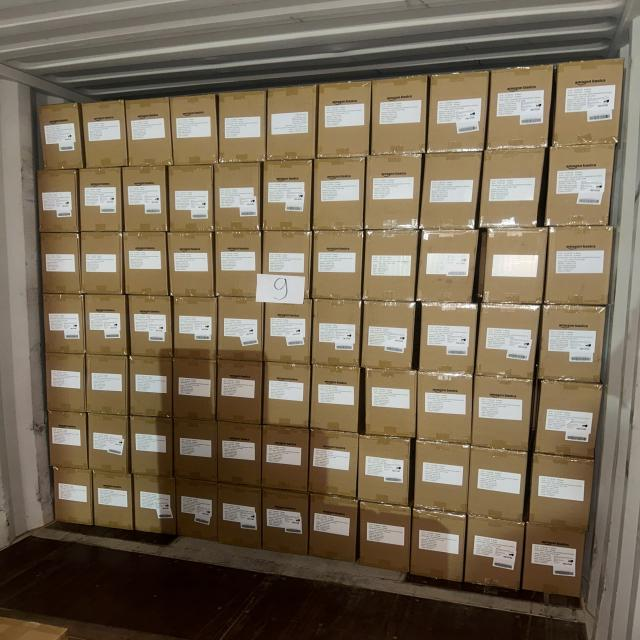Carton: (554, 56, 623, 144), (545, 146, 614, 230), (486, 65, 550, 150), (548, 224, 613, 305), (535, 380, 600, 460), (542, 307, 607, 386), (484, 229, 549, 307), (482, 152, 544, 232), (428, 74, 488, 155), (534, 456, 596, 534), (526, 523, 588, 599), (419, 152, 478, 231), (473, 376, 533, 453), (478, 304, 538, 380), (419, 227, 478, 303), (373, 77, 428, 157), (363, 154, 419, 232), (470, 446, 527, 522), (467, 516, 524, 592), (419, 302, 476, 375), (321, 80, 373, 158), (414, 443, 469, 516), (365, 232, 419, 306), (412, 511, 465, 586), (418, 374, 473, 445), (363, 304, 418, 374), (316, 158, 367, 232), (267, 84, 316, 160), (361, 369, 414, 439), (357, 504, 408, 576), (358, 436, 409, 507), (262, 160, 312, 232), (264, 232, 312, 305), (218, 90, 265, 164), (311, 430, 359, 502), (315, 232, 365, 301), (313, 300, 362, 370), (313, 367, 362, 437), (311, 495, 358, 566), (173, 94, 219, 166), (214, 163, 261, 232), (126, 97, 172, 167), (213, 232, 260, 300), (264, 427, 310, 495), (38, 103, 83, 171), (170, 233, 217, 298), (265, 363, 311, 429), (262, 491, 308, 557), (264, 302, 312, 364), (172, 166, 217, 232), (218, 485, 263, 551), (81, 101, 125, 168), (216, 362, 262, 426), (123, 168, 168, 233), (216, 298, 261, 363), (215, 425, 260, 489), (77, 168, 121, 233), (124, 233, 168, 297), (176, 418, 220, 482), (174, 298, 218, 361), (78, 233, 122, 296), (128, 297, 172, 359), (174, 360, 218, 422), (178, 478, 220, 541), (40, 169, 81, 233), (130, 355, 173, 416), (131, 415, 174, 476), (84, 296, 126, 358), (134, 473, 176, 535), (88, 353, 130, 414), (45, 353, 87, 414), (45, 292, 86, 354), (48, 409, 89, 468), (88, 411, 128, 471), (90, 473, 130, 533), (44, 234, 82, 295), (53, 468, 92, 526)
